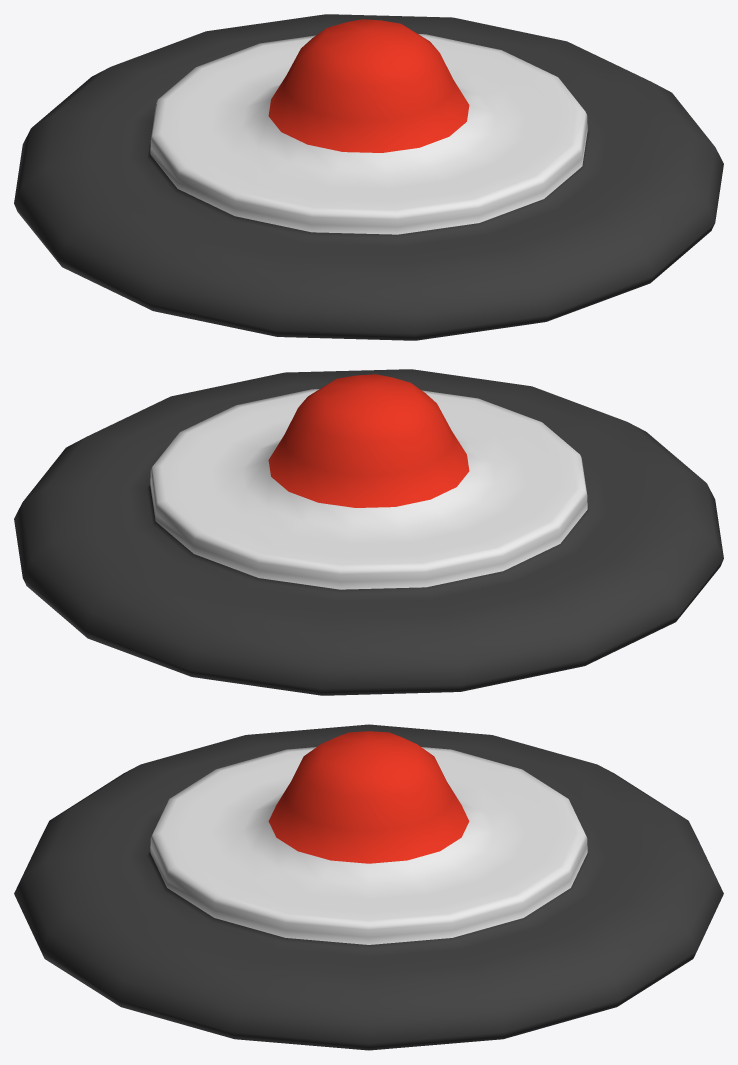
Rendered from LandMine (4).fbx.
3 views of the same model, one above another, from view 1: azimuth 30°, elevation 25°; view 2: azimuth 150°, elevation 25°; view 3: azimuth 270°, elevation 25° (orthographic).
Visible parts, largest first — view 1: LandMine; view 2: LandMine; view 3: LandMine.
Boxes of the visible parts, <box> form: LandMine: <box>14,14,723,340</box>; LandMine: <box>14,369,723,695</box>; LandMine: <box>14,724,723,1050</box>.
Size of the model in its own units: 29.87 by 7.52 by 29.87.
